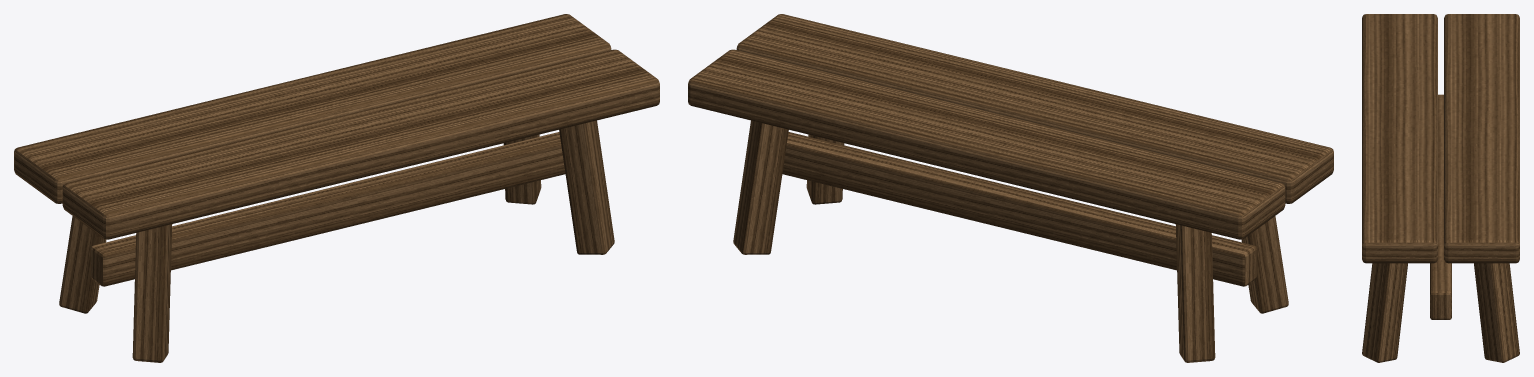
File: tavern-bench.glb
3 views of the same model, side by side, from view 1: azimuth 30°, elevation 25°; view 2: azimuth 150°, elevation 25°; view 3: azimuth 270°, elevation 25° (orthographic). The views are drawn at different scales.
Visible parts, largest first — view 1: tavern-bench - Tavern honey oak joinery runtime PBR, tavern-bench - Tavern aged timber framing runtime PBR; view 2: tavern-bench - Tavern honey oak joinery runtime PBR, tavern-bench - Tavern aged timber framing runtime PBR; view 3: tavern-bench - Tavern honey oak joinery runtime PBR, tavern-bench - Tavern aged timber framing runtime PBR.
Part boxes in pixels (left/top/right/bottom): tavern-bench - Tavern honey oak joinery runtime PBR: left=14, top=14, right=659, bottom=239; tavern-bench - Tavern aged timber framing runtime PBR: left=59, top=120, right=614, bottom=362; tavern-bench - Tavern honey oak joinery runtime PBR: left=688, top=14, right=1333, bottom=239; tavern-bench - Tavern aged timber framing runtime PBR: left=733, top=120, right=1288, bottom=362; tavern-bench - Tavern honey oak joinery runtime PBR: left=1362, top=14, right=1519, bottom=263; tavern-bench - Tavern aged timber framing runtime PBR: left=1362, top=94, right=1519, bottom=362.
Size of the model in its own units: 1.72 by 0.4898 by 0.5.
Materials: 2 (2 with a texture image).
